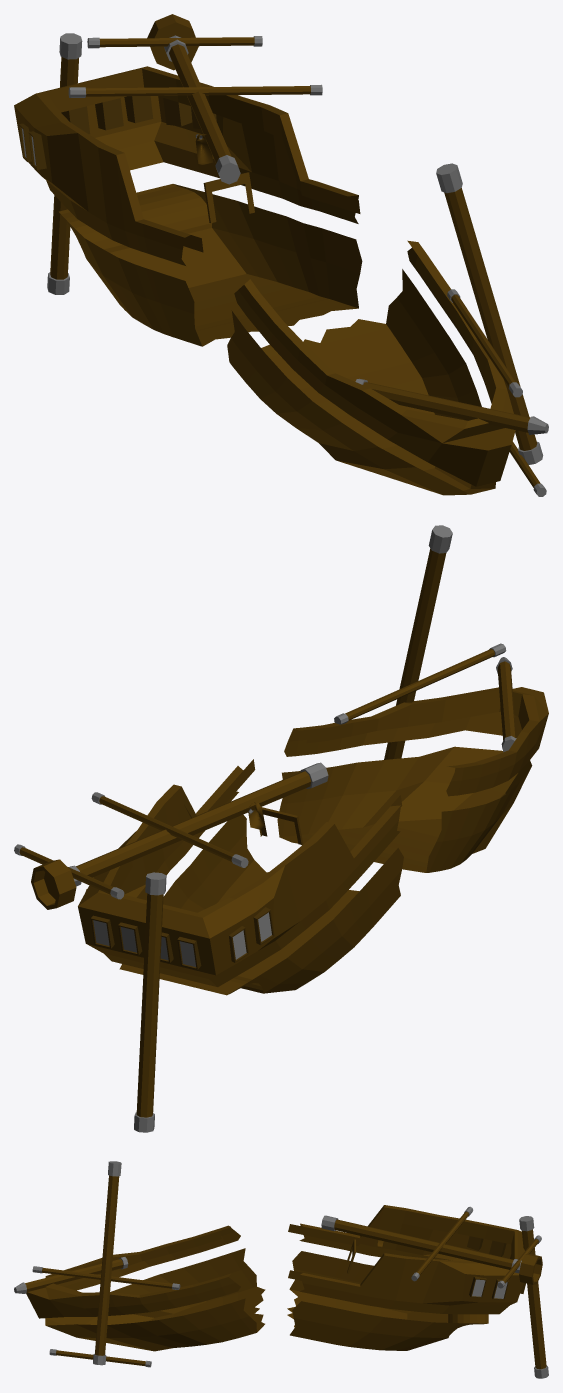
Rendered from ShipWreak1_Mod.fbx.
The picture shows the model from 3 angles, top to bottom: view 1: azimuth 30°, elevation 25°; view 2: azimuth 150°, elevation 25°; view 3: azimuth 270°, elevation 25°; orthographic projection. The views are drawn at different scales.
Visible parts, largest first — view 1: Plane.009, Plane.001, Cylinder.015, Cylinder.017, Cylinder.013, Cylinder.018; view 2: Plane.009, Plane.001, Cylinder.015, Cylinder.017, Cylinder.018, Cylinder.013; view 3: Plane.009, Plane.001, Cylinder.015, Cylinder.017, Cylinder.018, Cylinder.013.
Part boxes in pixels (left/top/right/bottom): Plane.009: left=14, top=66, right=362, bottom=346; Plane.001: left=227, top=240, right=515, bottom=495; Cylinder.015: left=68, top=14, right=322, bottom=184; Cylinder.017: left=436, top=163, right=546, bottom=496; Cylinder.013: left=355, top=378, right=548, bottom=434; Cylinder.018: left=47, top=33, right=82, bottom=294; Plane.009: left=78, top=759, right=403, bottom=995; Plane.001: left=277, top=687, right=548, bottom=872; Cylinder.015: left=14, top=762, right=328, bottom=909; Cylinder.017: left=334, top=525, right=506, bottom=759; Cylinder.018: left=134, top=872, right=166, bottom=1132; Cylinder.013: left=496, top=657, right=516, bottom=752; Plane.009: left=287, top=1205, right=525, bottom=1350; Plane.001: left=26, top=1225, right=265, bottom=1351; Cylinder.015: left=321, top=1206, right=542, bottom=1288; Cylinder.017: left=32, top=1161, right=180, bottom=1367; Cylinder.018: left=519, top=1216, right=548, bottom=1378; Cylinder.013: left=14, top=1257, right=128, bottom=1293.
Size of the model in its own units: 2793 by 3979 by 8540.
